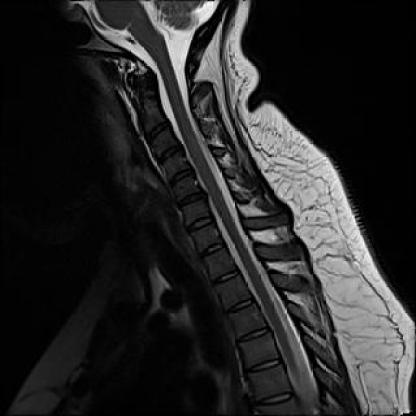Annular Disc Relaxationrotation: (173, 193, 208, 207), (165, 169, 197, 182)
